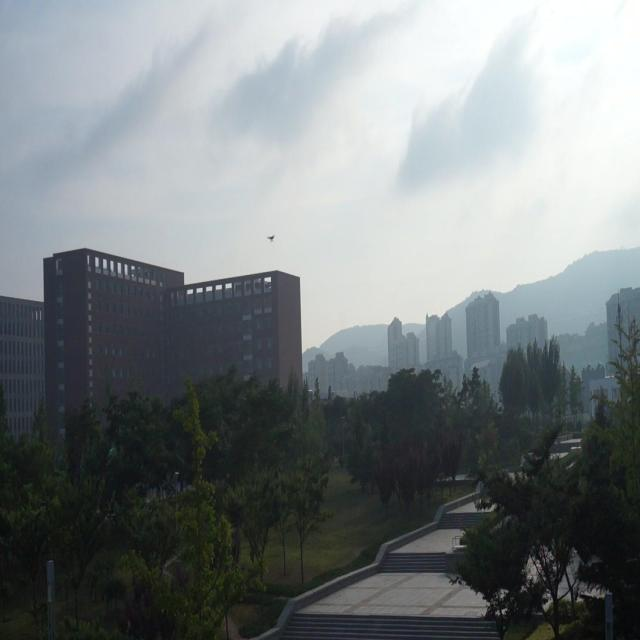UAV: (266, 235, 276, 243)
